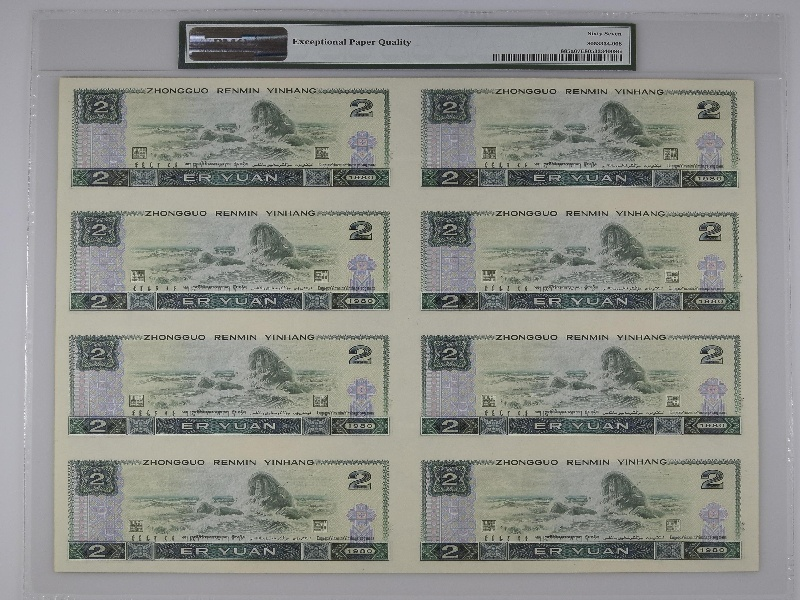papernote: (60, 73, 761, 576)
